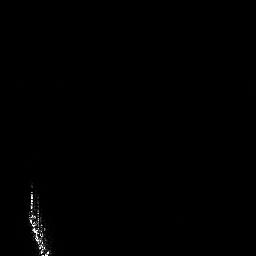ship: (25, 183, 53, 256)
